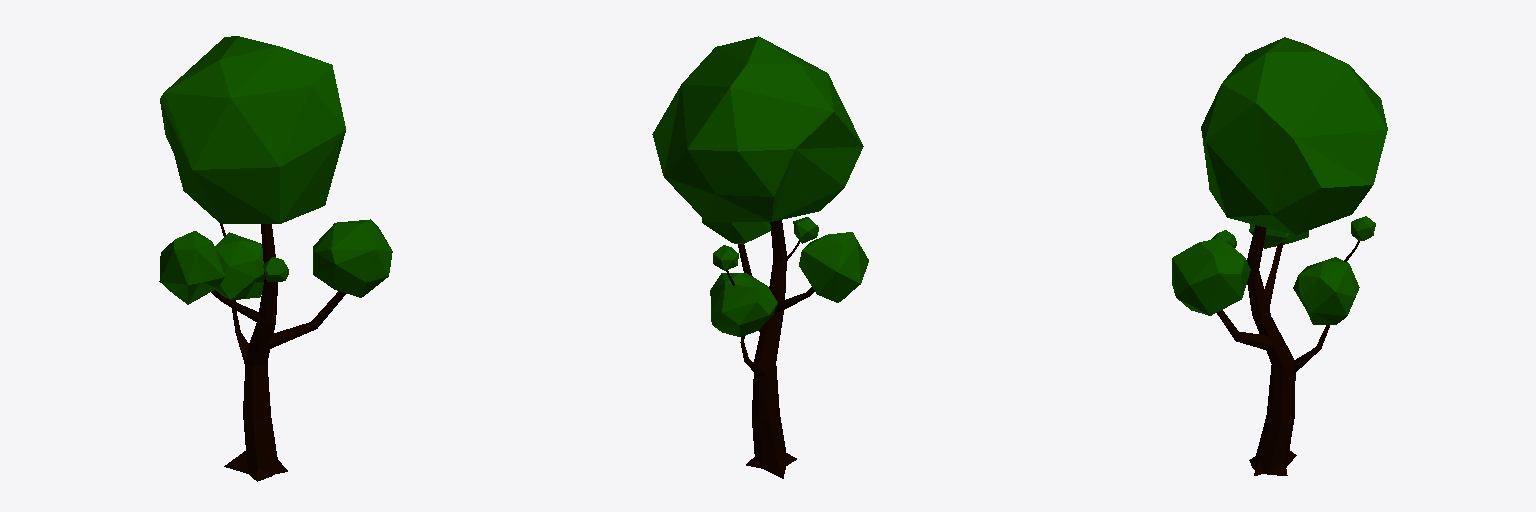
File: Tree_obj.obj
3 views of the same model, side by side, from view 1: azimuth 30°, elevation 25°; view 2: azimuth 150°, elevation 25°; view 3: azimuth 270°, elevation 25° (orthographic).
Visible parts, largest first — view 1: Mesh; view 2: Mesh; view 3: Mesh.
Boxes of the visible parts, x1,y1,x2,y2 form: Mesh: [159, 36, 392, 481]; Mesh: [652, 36, 868, 478]; Mesh: [1172, 37, 1387, 475].
Size of the model in its own units: 6.17 by 13.14 by 6.09.